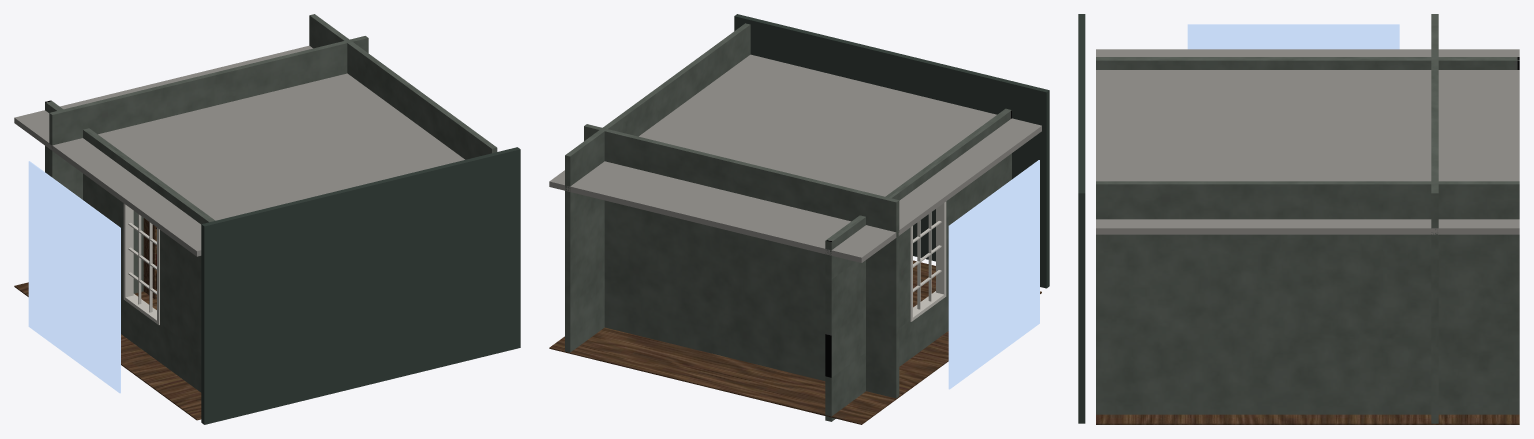
The model's file is orrery.glb.
The picture shows the model from 3 angles, left to right: view 1: azimuth 30°, elevation 25°; view 2: azimuth 150°, elevation 25°; view 3: azimuth 270°, elevation 25°; orthographic projection. The views are drawn at different scales.
Parts seen in each view (by area): view 1: wall_front, ceiling, window_sky, wall_back, wall_left, wall_right, floor, window_frame, bookcase; view 2: ceiling, wall_back, window_sky, wall_front, wall_left, floor, wall_right, window_frame; view 3: wall_right, ceiling, window_sky, wall_left, floor, wall_front, wall_back.
Boxes of the visible parts, box(x1,y1,x2,y2) form: wall_front: box(201, 147, 520, 424); ceiling: box(14, 45, 464, 256); window_sky: box(28, 161, 120, 393); wall_back: box(49, 36, 368, 293); wall_left: box(45, 100, 215, 392); wall_right: box(309, 14, 497, 159); floor: box(14, 282, 201, 420); window_frame: box(123, 203, 159, 324); bookcase: box(143, 218, 156, 299); ceiling: box(549, 54, 1041, 262); wall_back: box(584, 124, 899, 398); window_sky: box(948, 160, 1039, 389); wall_front: box(734, 14, 1049, 288); wall_left: box(825, 108, 1011, 421); floor: box(549, 260, 1041, 424); wall_right: box(565, 23, 750, 352); window_frame: box(910, 201, 946, 321); wall_right: box(1096, 181, 1519, 414); ceiling: box(1096, 49, 1519, 234); window_sky: box(1187, 24, 1399, 49); wall_left: box(1096, 57, 1519, 69); floor: box(1096, 414, 1519, 424); wall_front: box(1078, 14, 1085, 423); wall_back: box(1431, 14, 1438, 423).
Size of the model in its own units: 6.71 by 3.7 by 6.25.
Materials: 39 (15 with a texture image).
